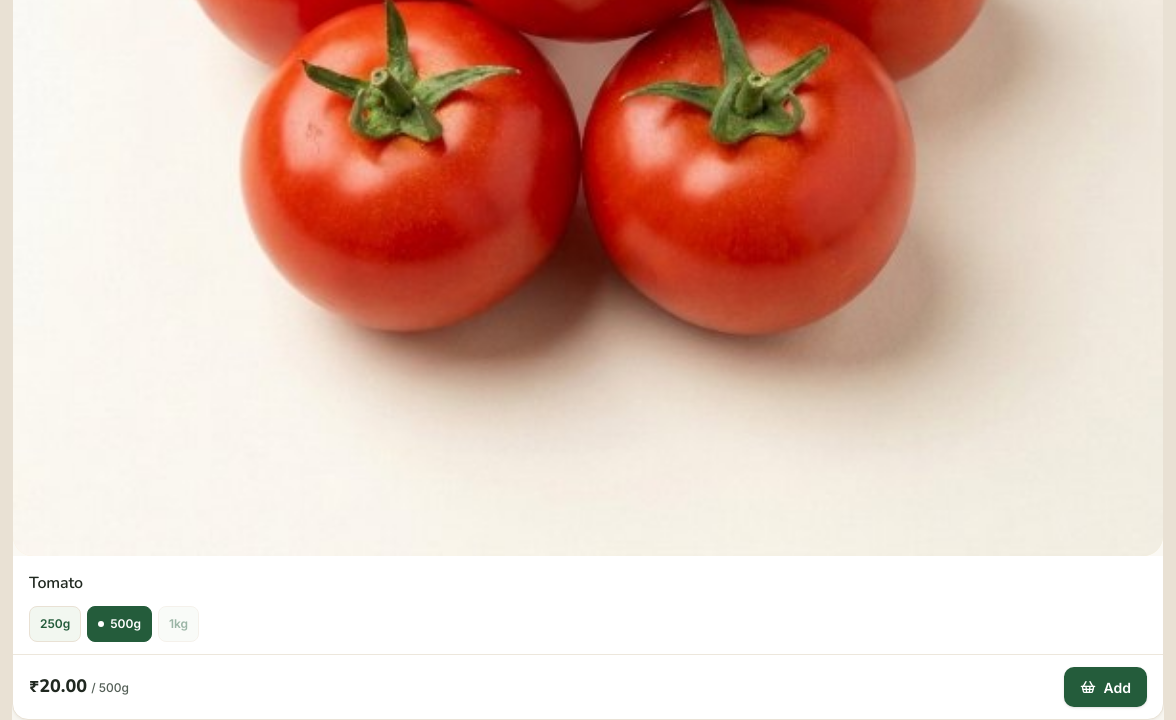
it: Phase 1 — Core Stabilization, Multilingual Search, Stock Alerts, Wastage & Receipt › Task 3: Low-Stock & Out-of-Stock Alerts and Customer Stock Capping › prevents customers from adding quantities above availableStock in VegetableCard and pruneCartWithCatalog
The image size is (1176, 720).
(page scrolled)
Check: the radio button labelled "1kg" is disabled, box [158, 606, 199, 642]
Click the button "Add" at {"x": 1105, "y": 687}, box [1064, 667, 1147, 707]
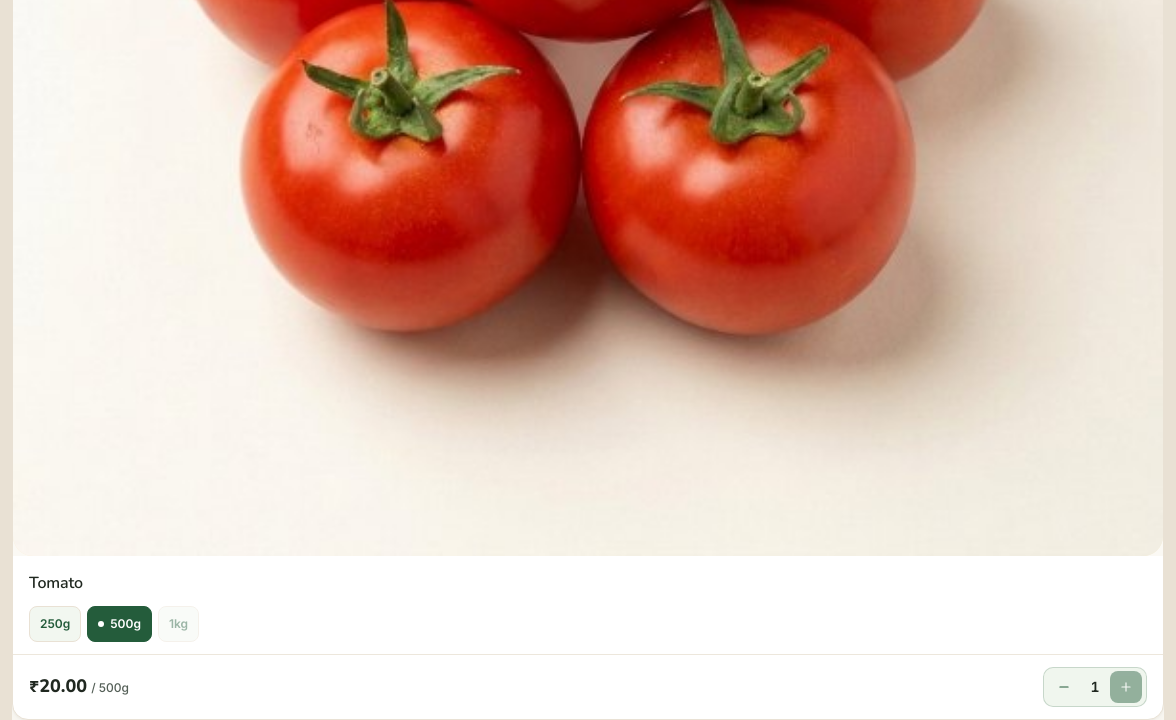
Check: the button named "increase" is disabled, box [1110, 671, 1142, 703]
